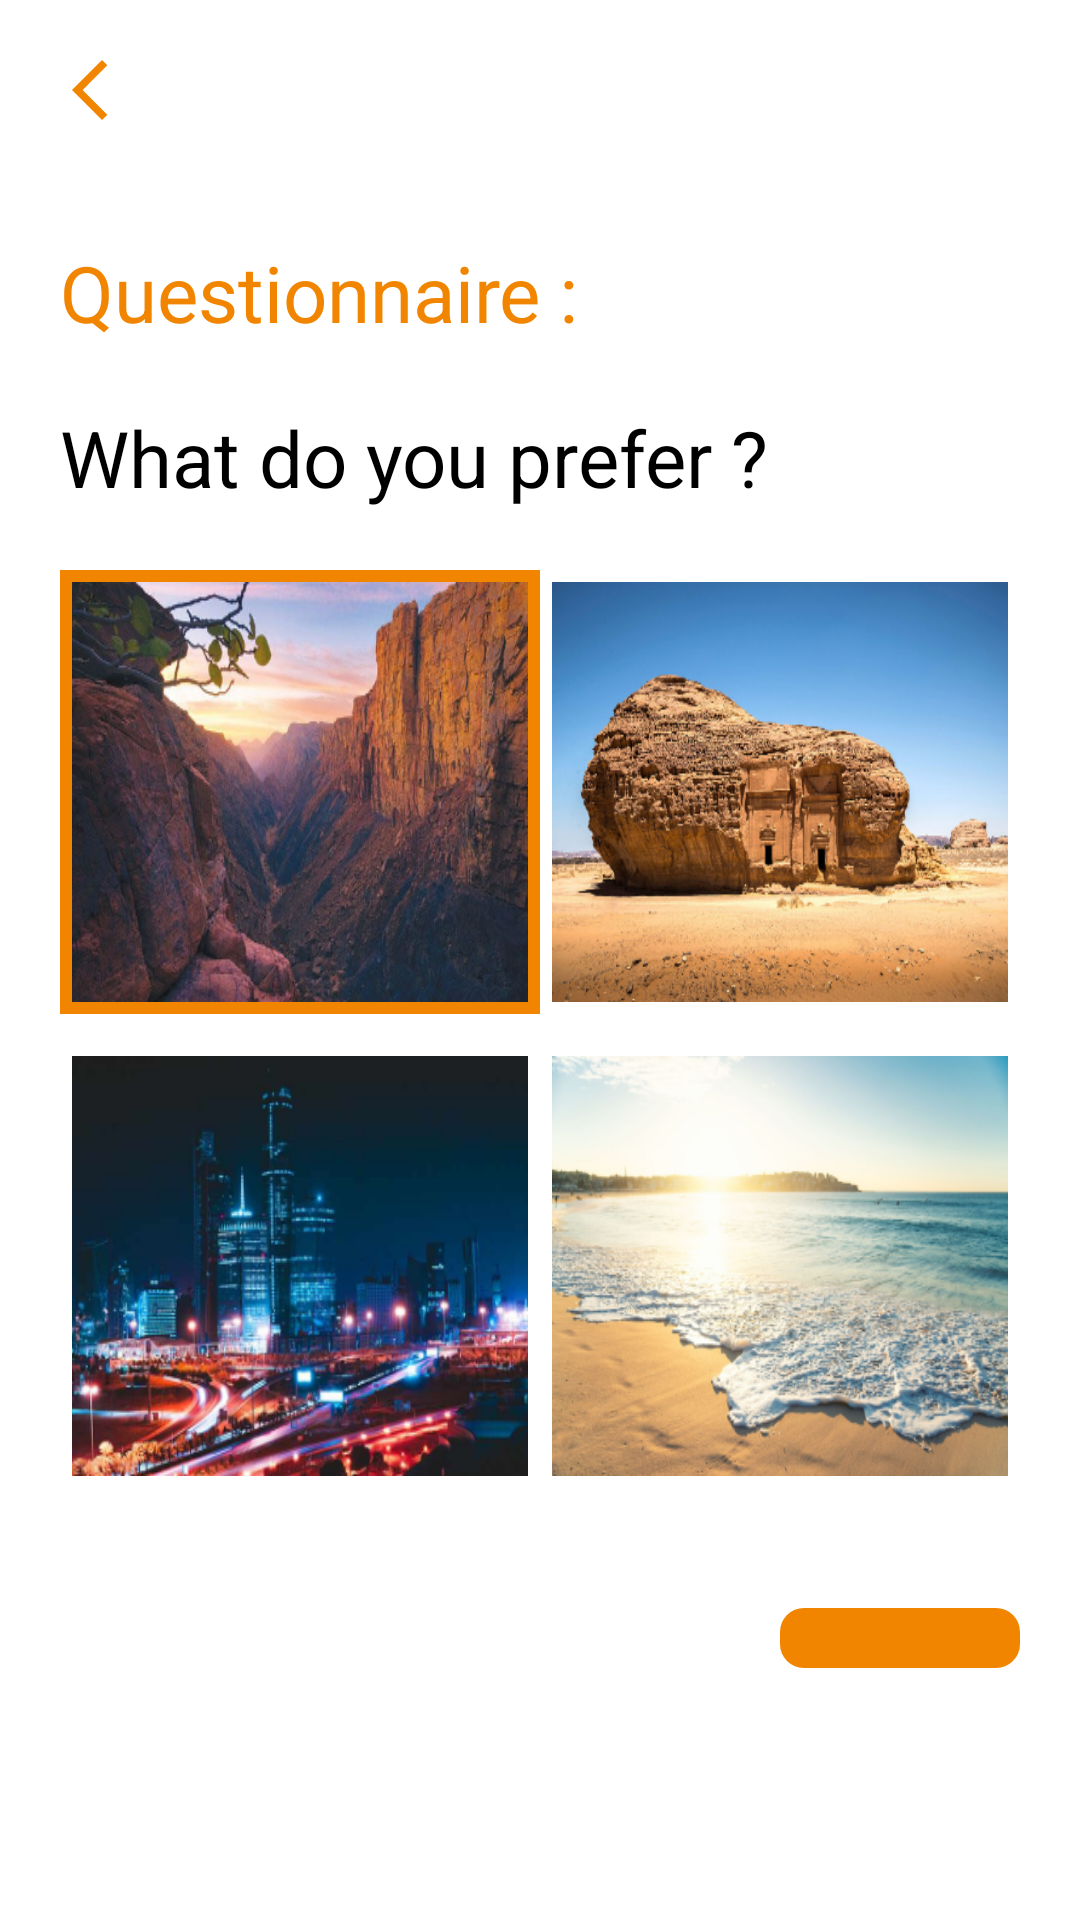

Icons on this 1080px x 1920px Android screen, each with its box as region(x1, y1, x2, y2):
back: region(72, 60, 107, 120)
